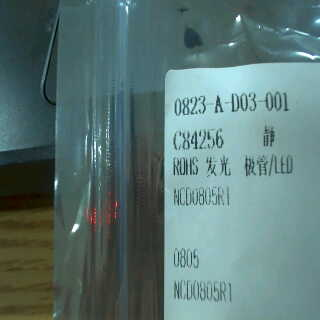LED: (203, 151, 294, 183)
